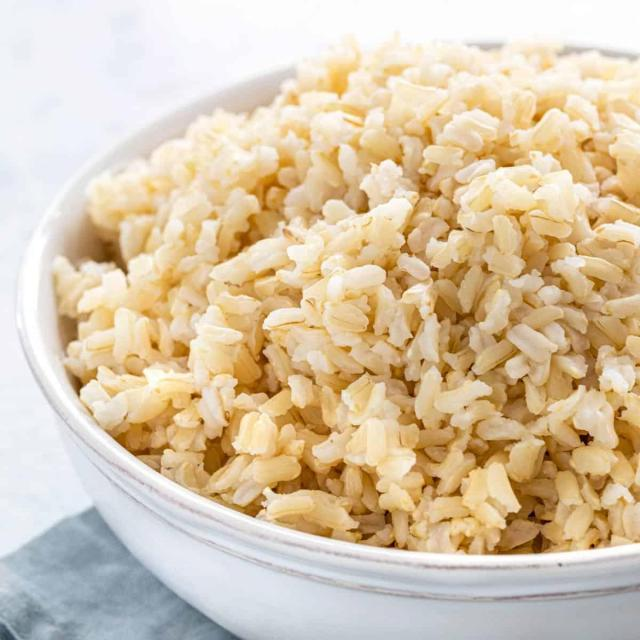rice: (56, 44, 640, 557)
